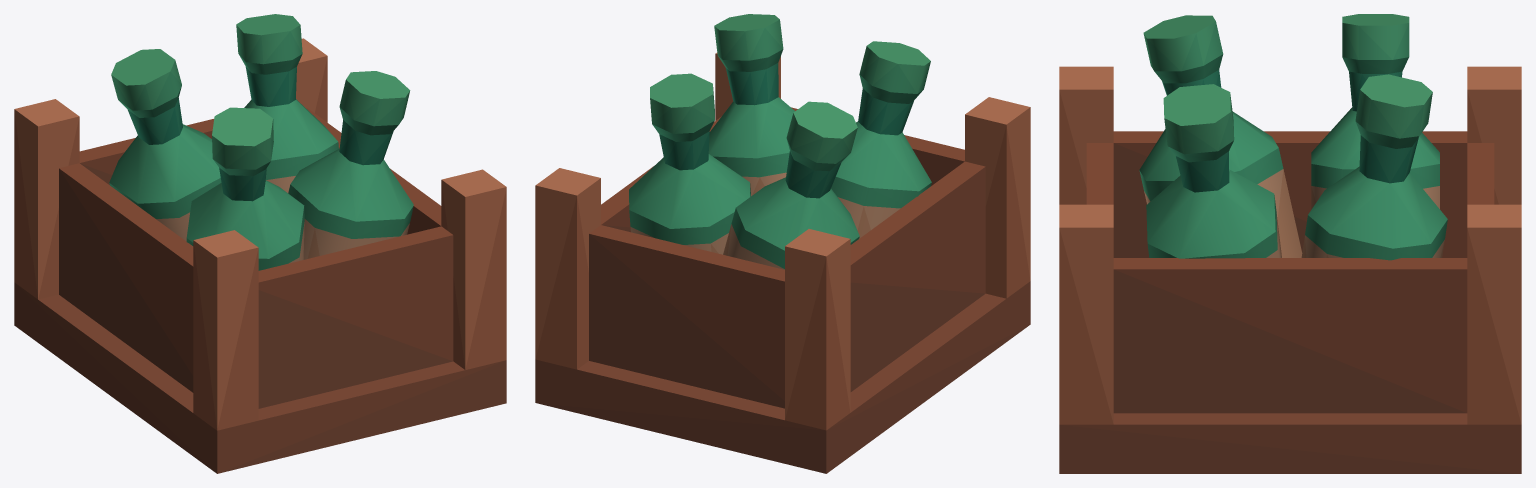
The model's file is pirate_crate_bottles.glb.
The picture shows the model from 3 angles, left to right: view 1: azimuth 30°, elevation 25°; view 2: azimuth 150°, elevation 25°; view 3: azimuth 270°, elevation 25°; orthographic projection. The views are drawn at different scales.
Parts seen in each view (by area): view 1: pirate_crate_bottles; view 2: pirate_crate_bottles; view 3: pirate_crate_bottles.
Part boxes in pixels (box(x1,y1,x2,y2)): pirate_crate_bottles: box(14, 14, 506, 473); pirate_crate_bottles: box(535, 14, 1030, 473); pirate_crate_bottles: box(1059, 14, 1521, 473).
Size of the model in its own units: 1.08 by 1.06 by 1.31.
